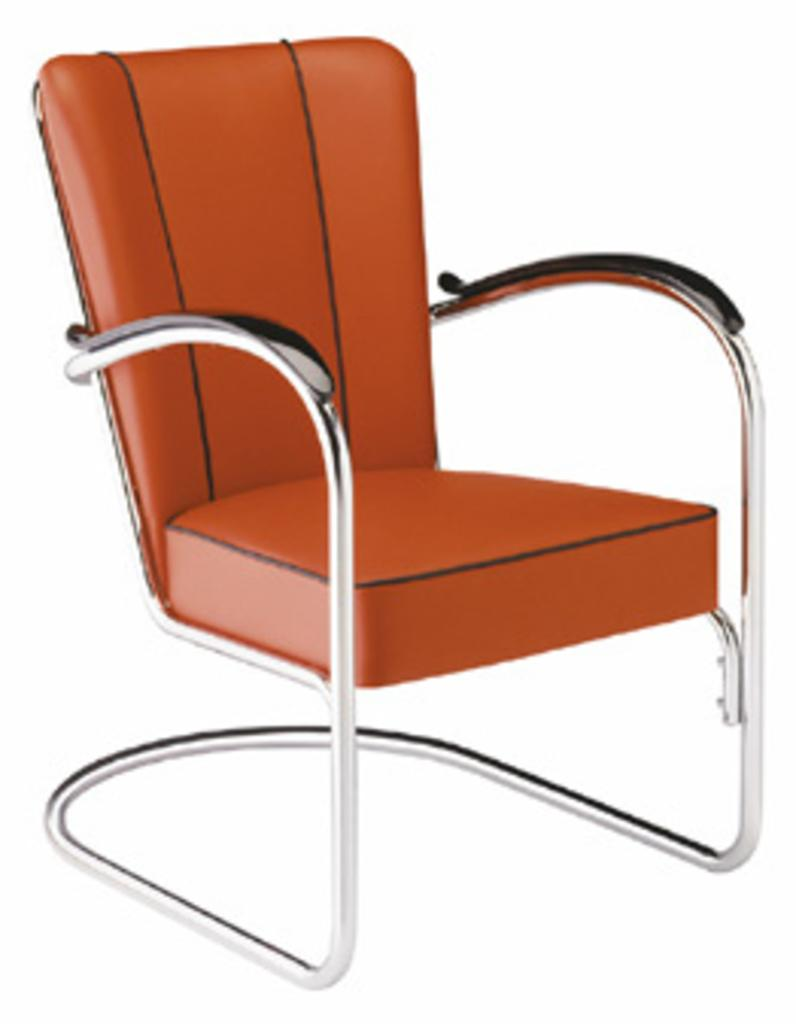Chair: (15, 24, 775, 997)
